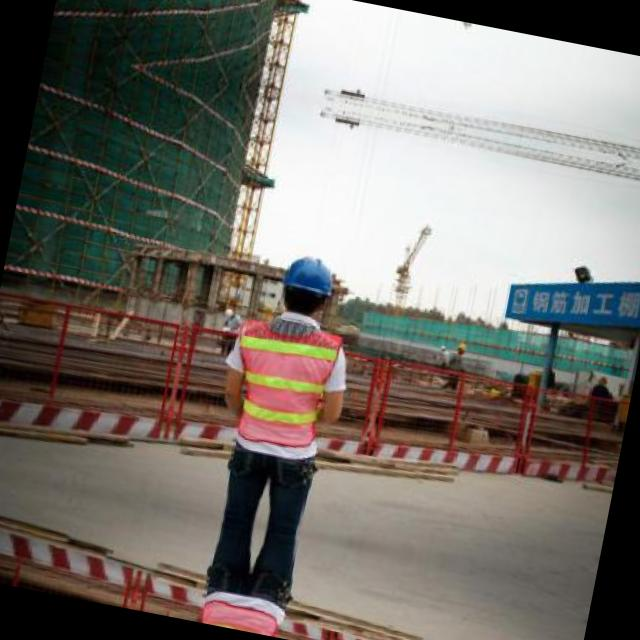helmet: (270, 248, 344, 322), (454, 338, 470, 357)
